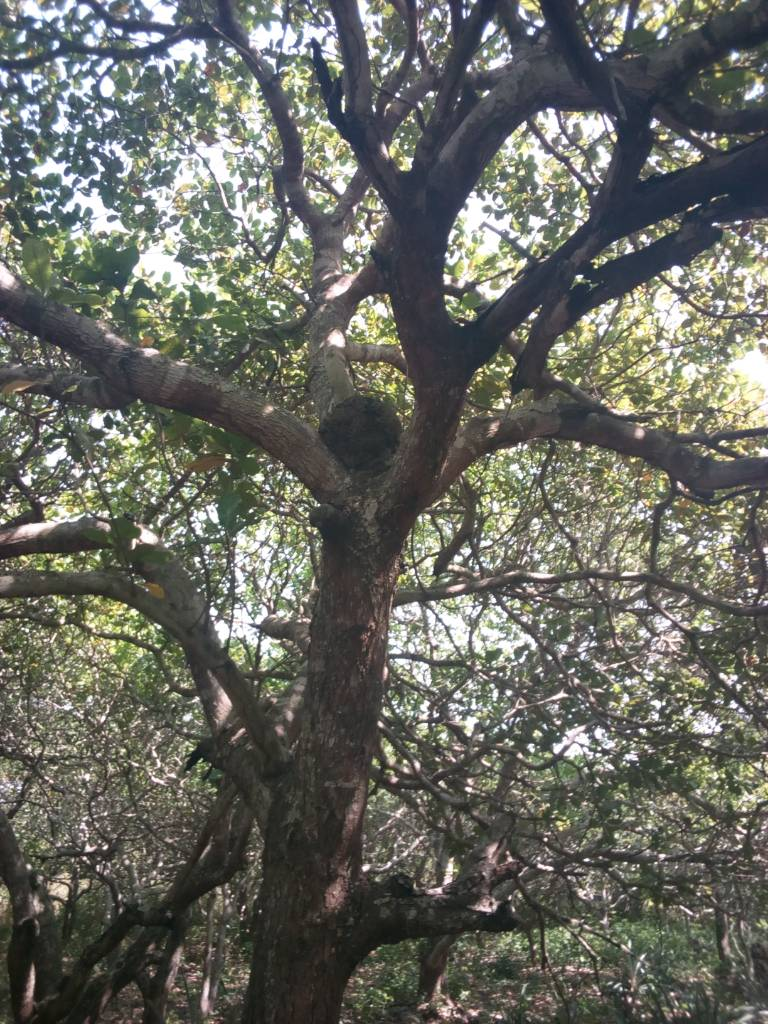Virose: (302, 380, 423, 515)
